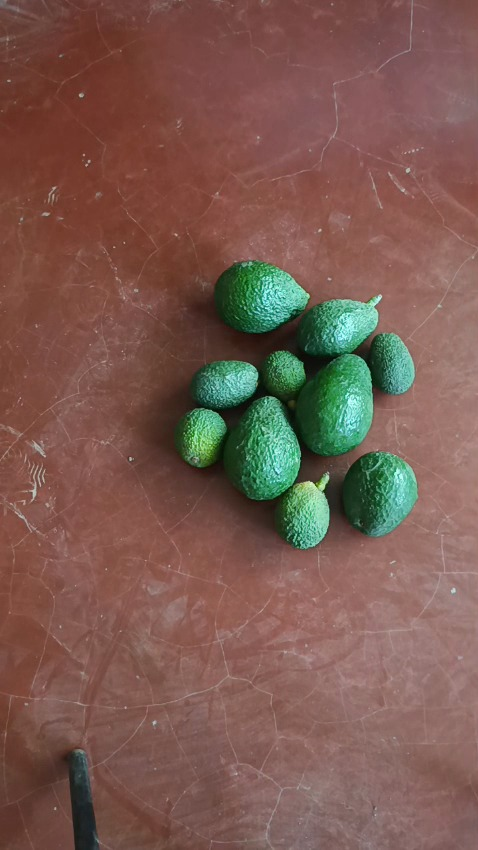Primera: (293, 353, 374, 455), (223, 397, 303, 500), (213, 260, 309, 333)
Segunda: (341, 450, 419, 535), (297, 300, 376, 355)
Tercera: (273, 482, 331, 549), (189, 360, 258, 410), (174, 408, 228, 467), (367, 333, 415, 396), (260, 351, 306, 402)
